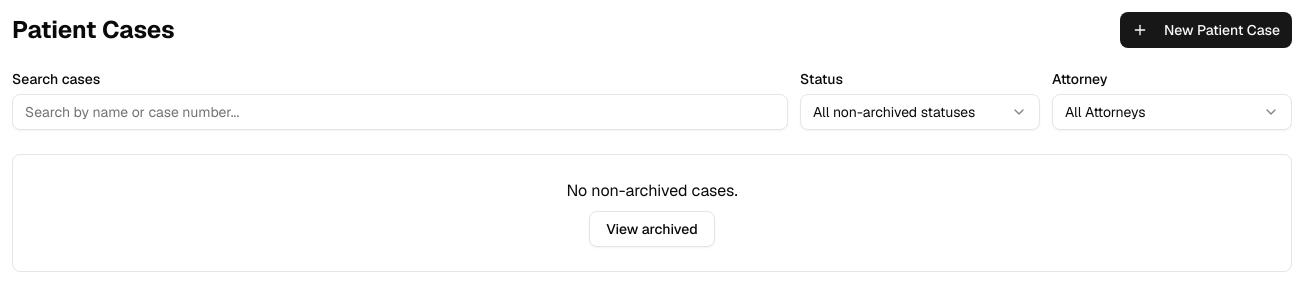
it: offers View archived for an archived-only dataset under default filters
Check: the text "No non-archived cases." is shown, box [566,180,738,201]
Click the button "View archived". click: (652, 229)
box: [589,211,715,247]
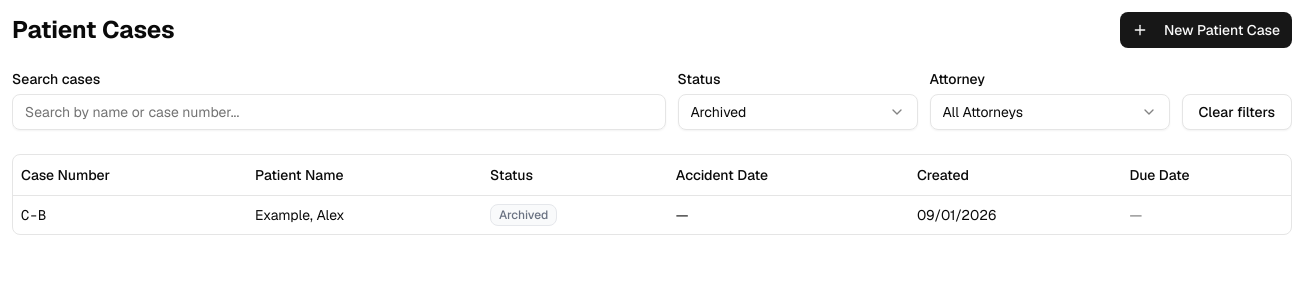
Check: the link "C-B" is shown, box [21,206,46,224]
